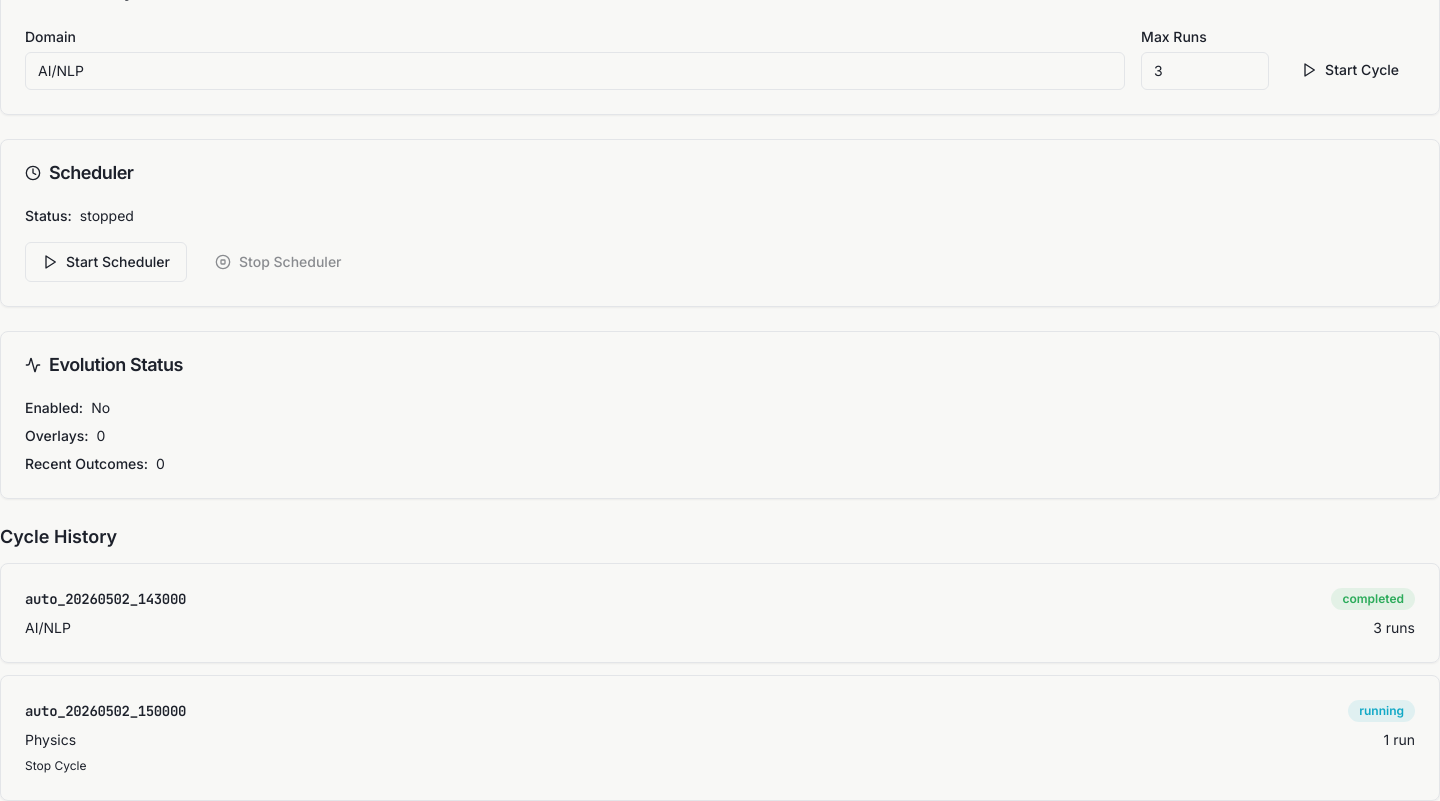
BATCH-26/TASK-03: Autonomous Dashboard Page › TEST-26-03-03: Stop button requires confirmation
(page scrolled)
Expected: the element with test id "autonomous-history-list" is shown, [0,563,1439,800]
Click the button with test id "cycle-stop-auto_20260502_150000" at x=56, y=766, box [25,758,86,774]
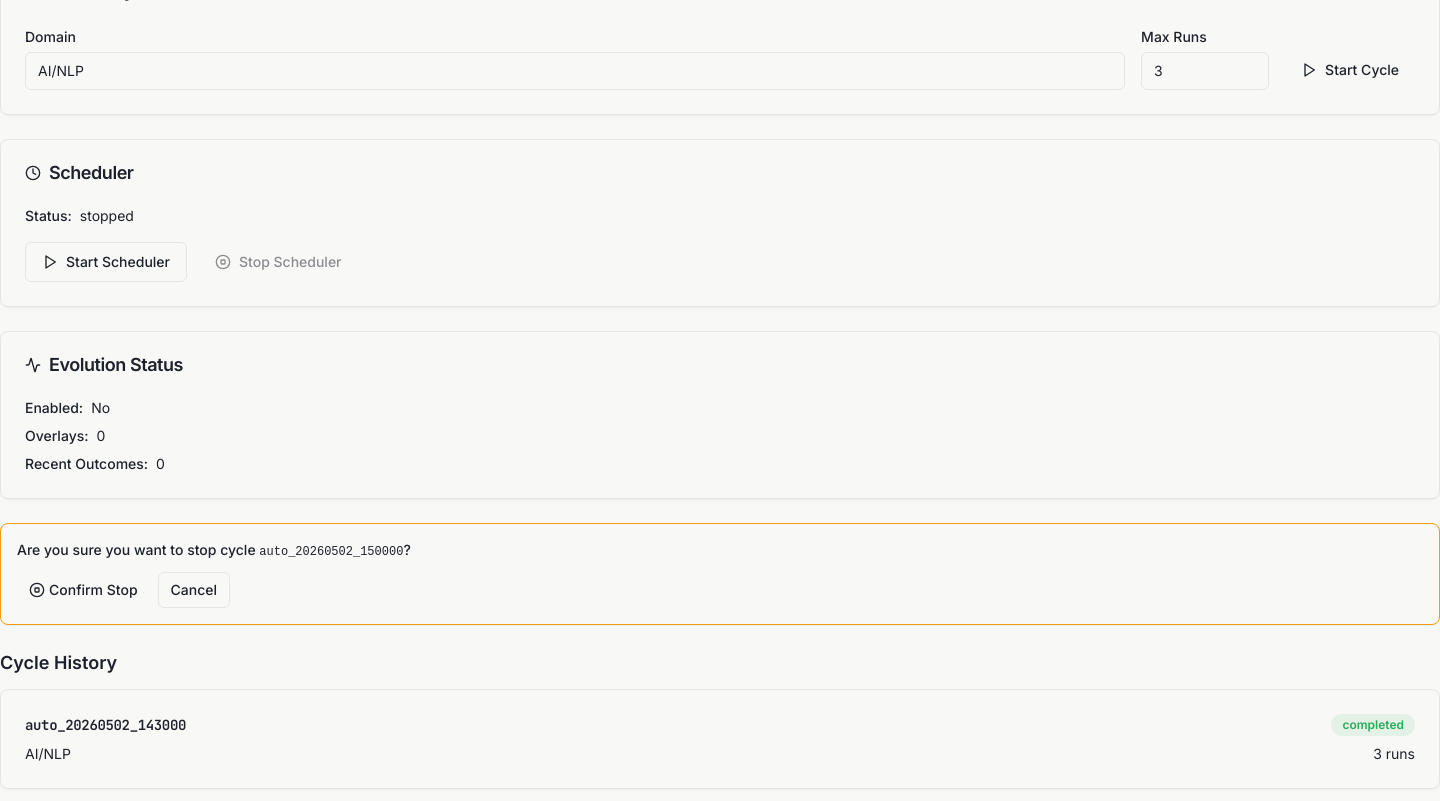
Expected: the element with test id "stop-confirm-dialog" is shown, [0,523,1439,625]
Expected: the button with test id "stop-confirm-btn" is shown, [17,572,150,608]
Expected: the button with test id "stop-cancel-btn" is shown
Click the button with test id "stop-cancel-btn" at x=194, y=590, box [158,572,230,608]
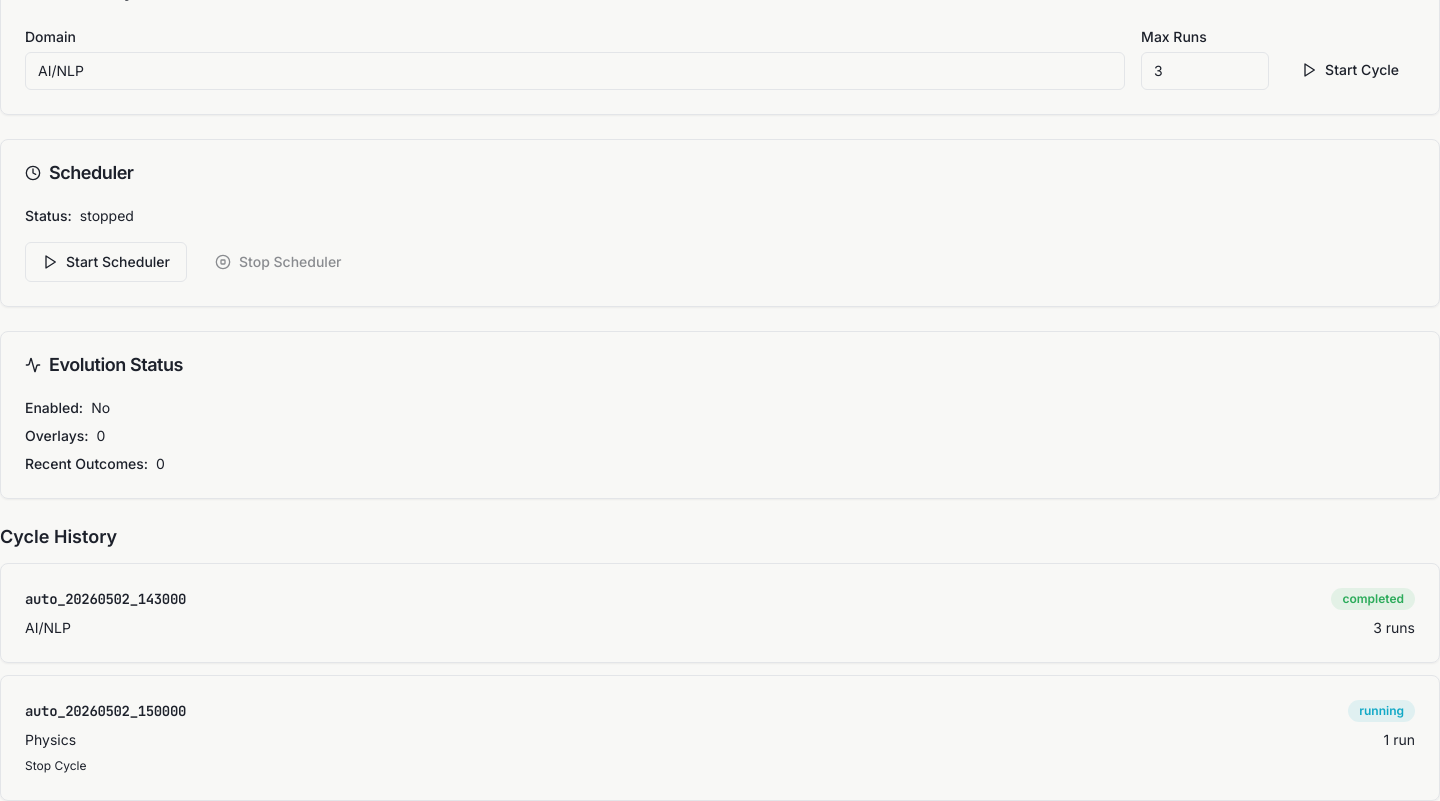
Expected: the element with test id "stop-confirm-dialog" is gone
